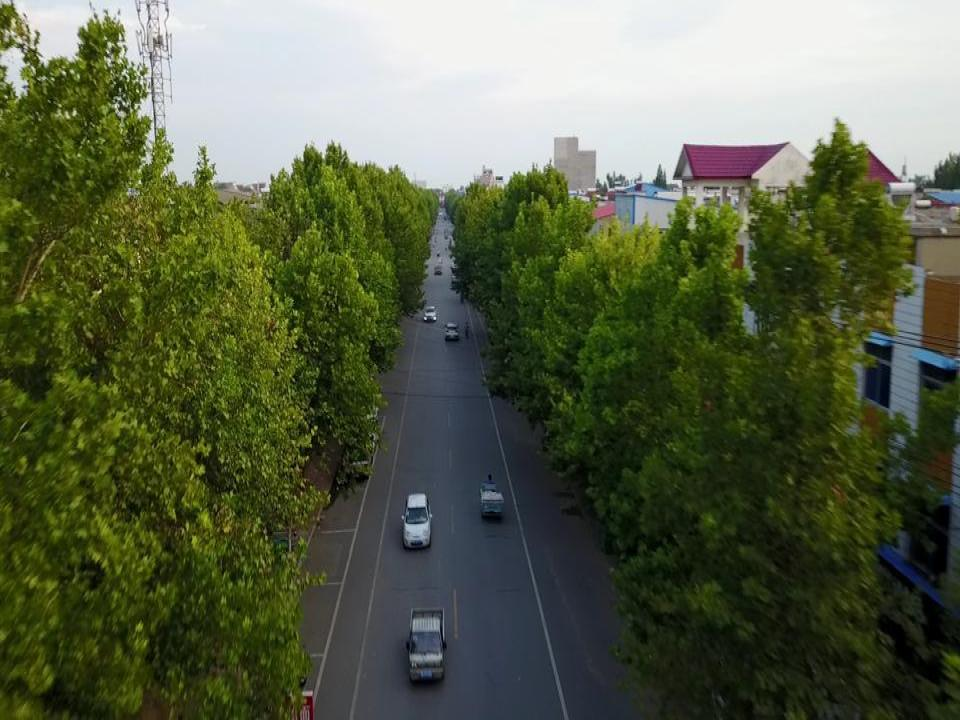car: (227, 517, 296, 560), (226, 516, 295, 559), (401, 492, 433, 549), (443, 323, 460, 341), (423, 306, 437, 322), (451, 269, 461, 284), (434, 265, 442, 275)
truck: (406, 605, 446, 683), (342, 402, 378, 482)
